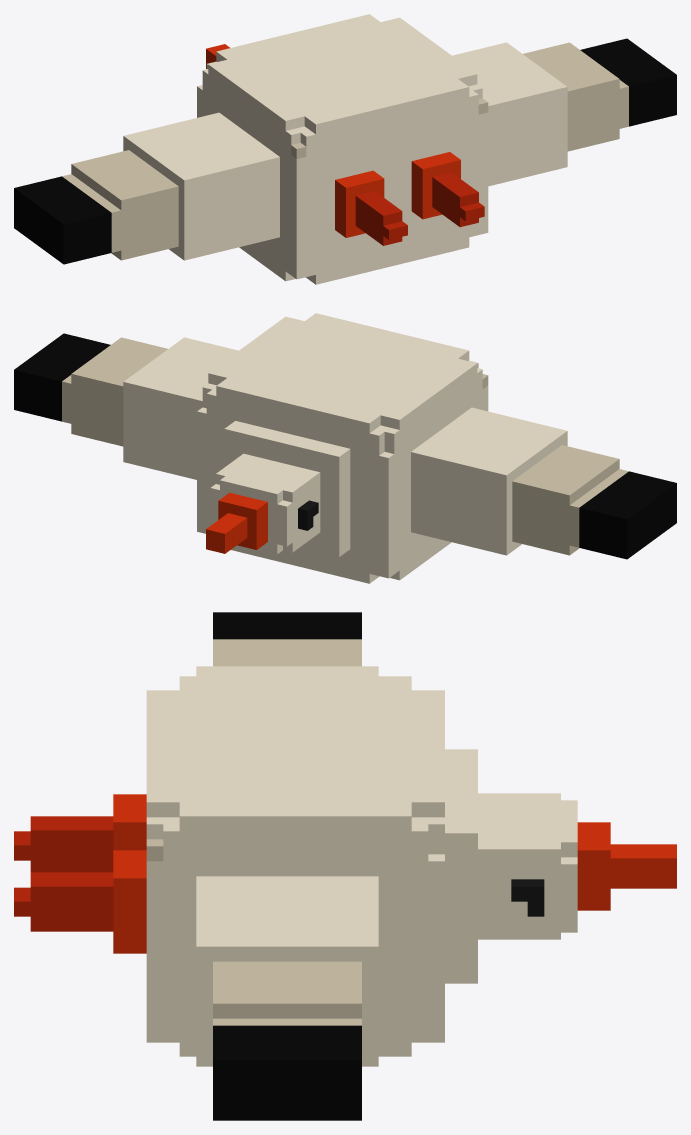
File: seagull_0.obj
3 renders of one model, top to bottom at view 1: azimuth 30°, elevation 25°; view 2: azimuth 150°, elevation 25°; view 3: azimuth 270°, elevation 25°, orthographic. The views are drawn at different scales.
Size of the model in its own units: 64 by 16 by 40.
1 material, 1 textured.
